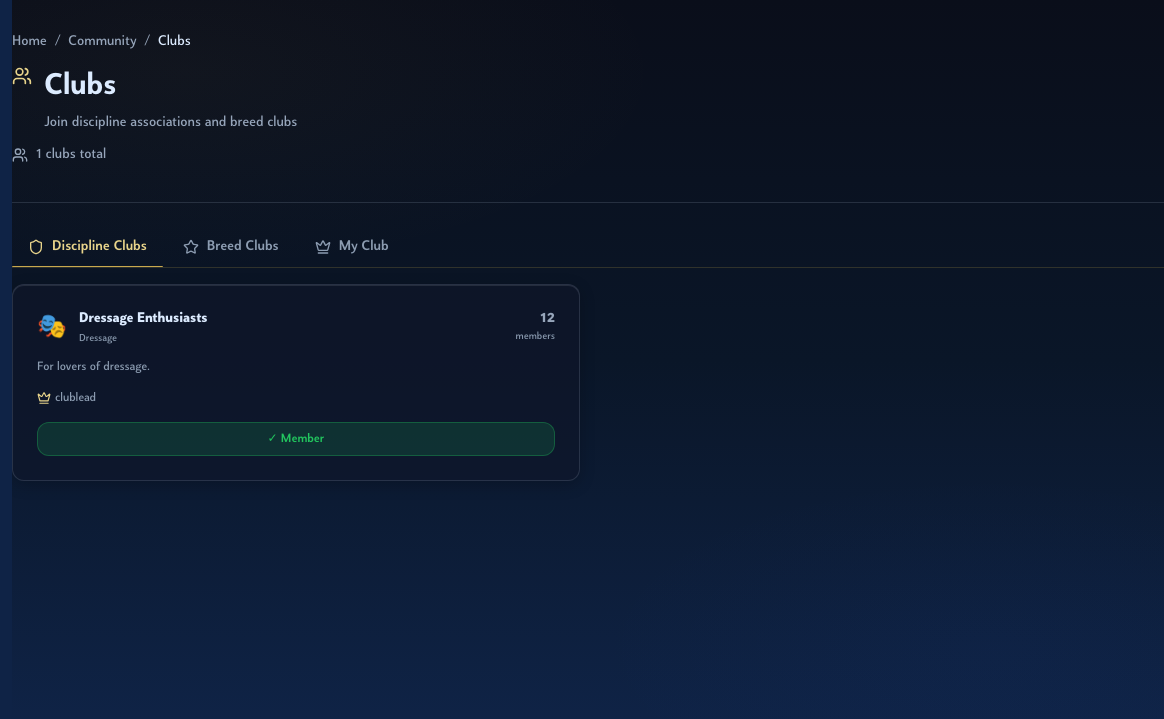
ElectionCard candidates fetch states (Equoria-1rsb7) › a successful empty candidate list is the honest "No candidates yet."
What coordinates should you click on to do the following:
click the tab with test id "tab-my-club"
I would click on:
 (352, 247)
Its box is [299, 227, 405, 267].
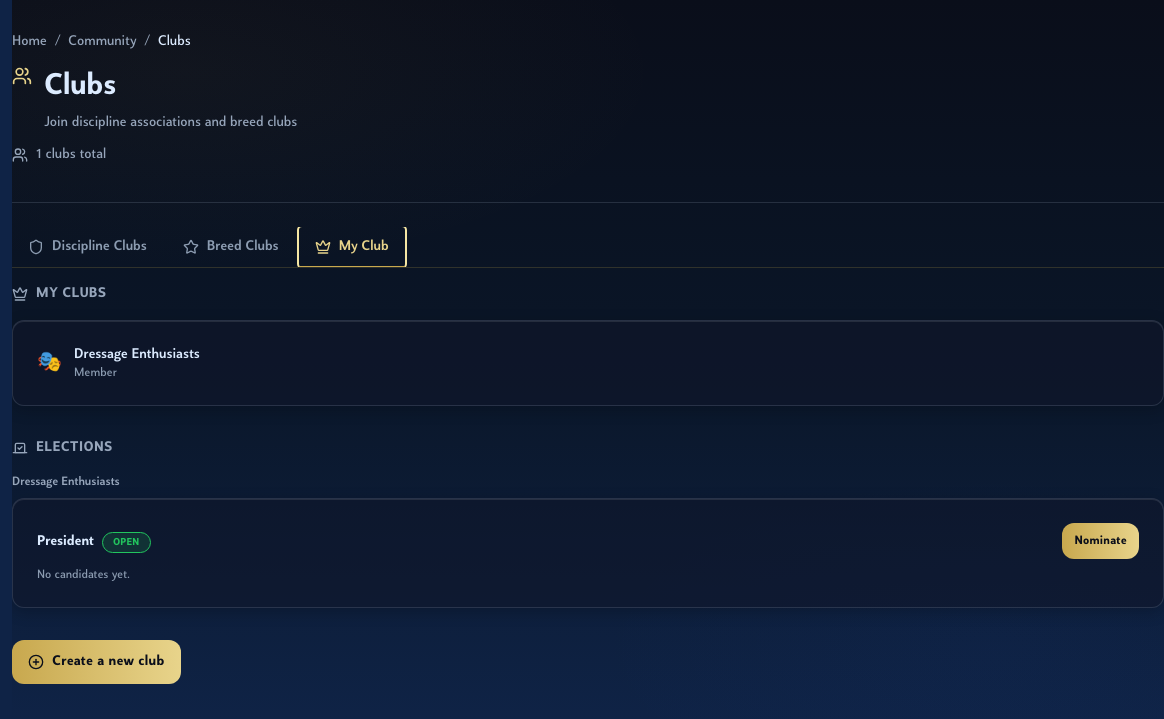
Expected: the text "No candidates yet." is shown, [37, 569, 130, 581]
